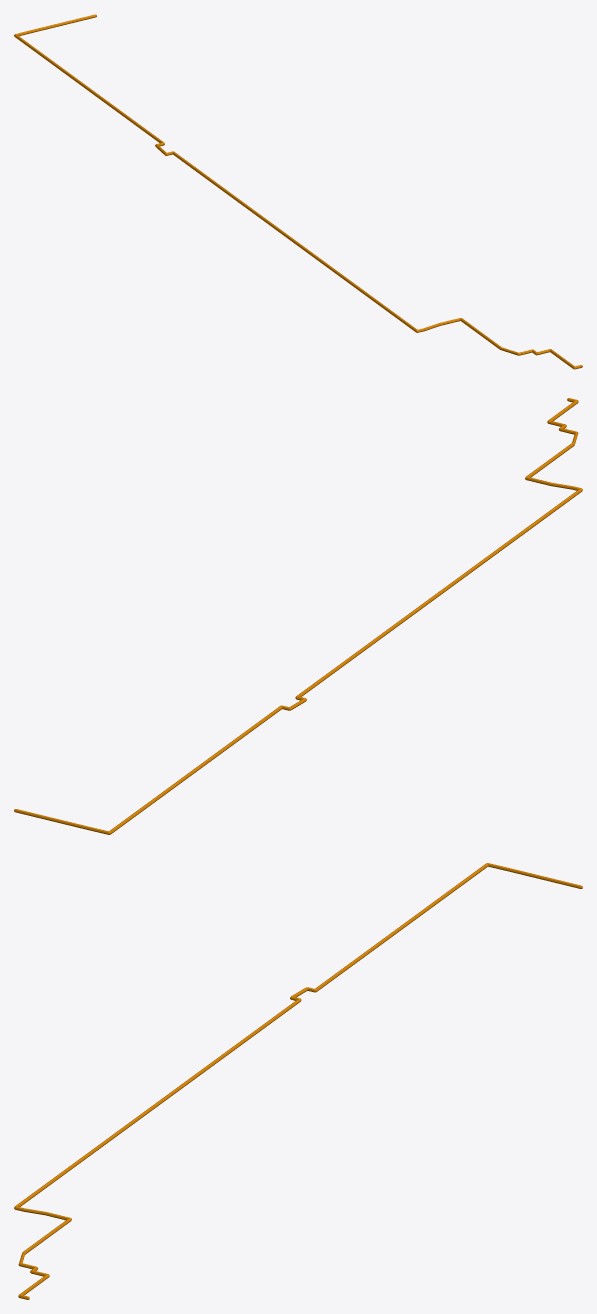
3 views of the same model, one above another, from view 1: azimuth 30°, elevation 25°; view 2: azimuth 150°, elevation 25°; view 3: azimuth 330°, elevation 25° (orthographic). The views are drawn at different scales.
Bounding box in the file's own units: 701 × 20 × 6026.
